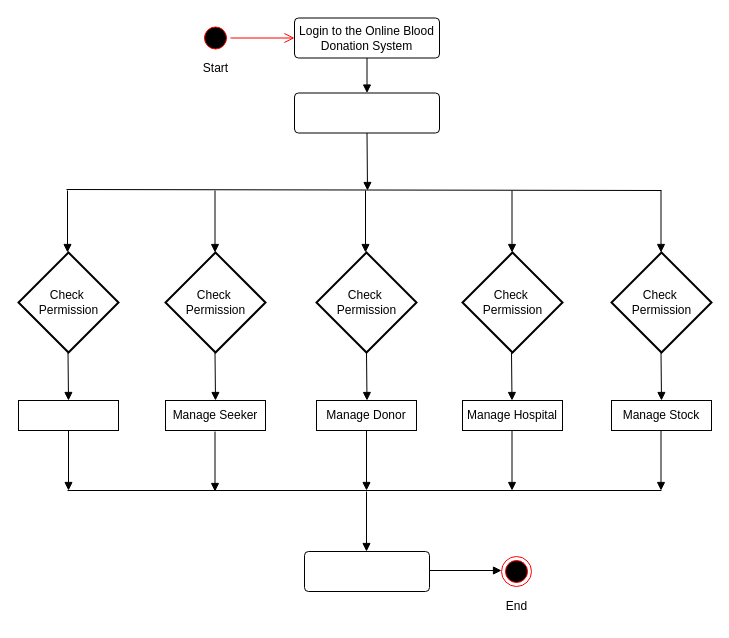
The diagram is 729 pixels wide and 638 high, and some of its shapes have lost their labels. Each missing label, with the box of its shape:
Check User Level and Permission: (294, 92, 440, 133)
Logout From the System: (304, 550, 430, 592)
Manage Blood Bank: (18, 400, 118, 430)
